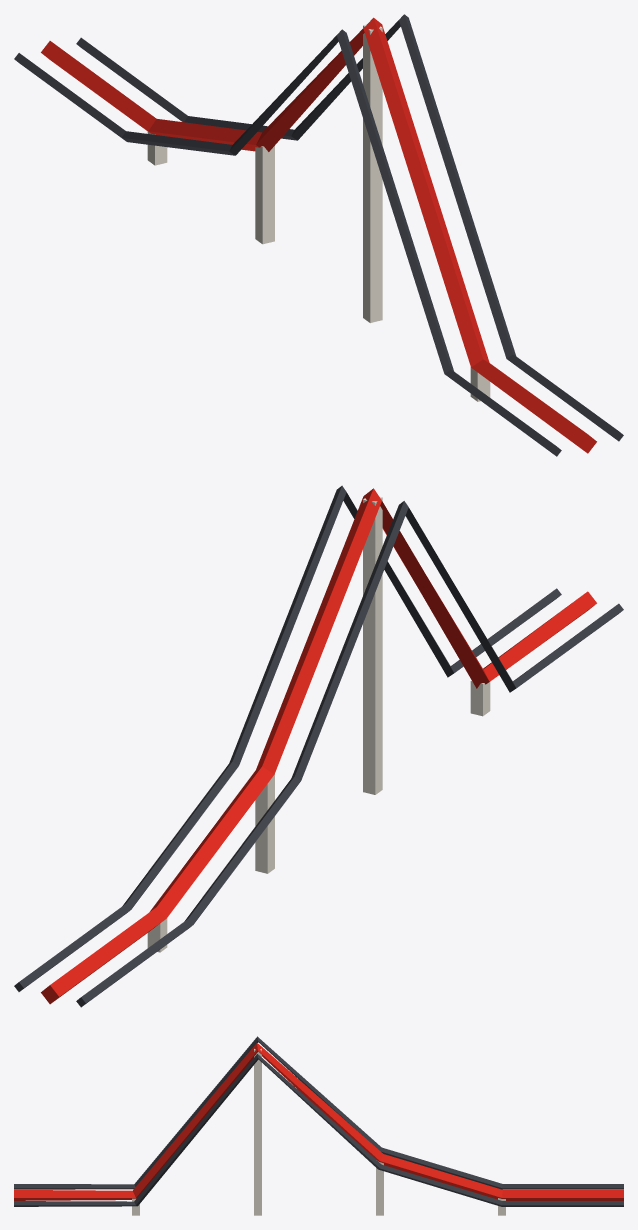
Rendered from roller_coaster_track.glb.
The picture shows the model from 3 angles, top to bottom: view 1: azimuth 30°, elevation 25°; view 2: azimuth 150°, elevation 25°; view 3: azimuth 270°, elevation 25°; orthographic projection. The views are drawn at different scales.
Visible parts, largest first — view 1: roller_coaster_track; view 2: roller_coaster_track; view 3: roller_coaster_track.
Boxes of the visible parts, x1,y1,x2,y2 form: roller_coaster_track: (14, 14, 623, 456); roller_coaster_track: (14, 485, 623, 1007); roller_coaster_track: (14, 1036, 623, 1215).
Bounding box in the file's own units: 1.16 × 4.65 × 15.
